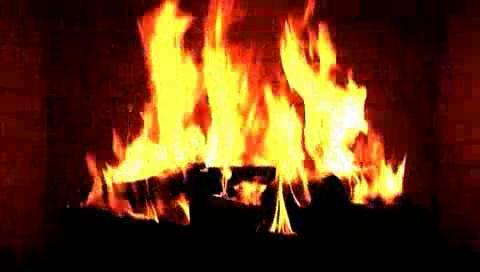fire: (71, 0, 457, 231)
